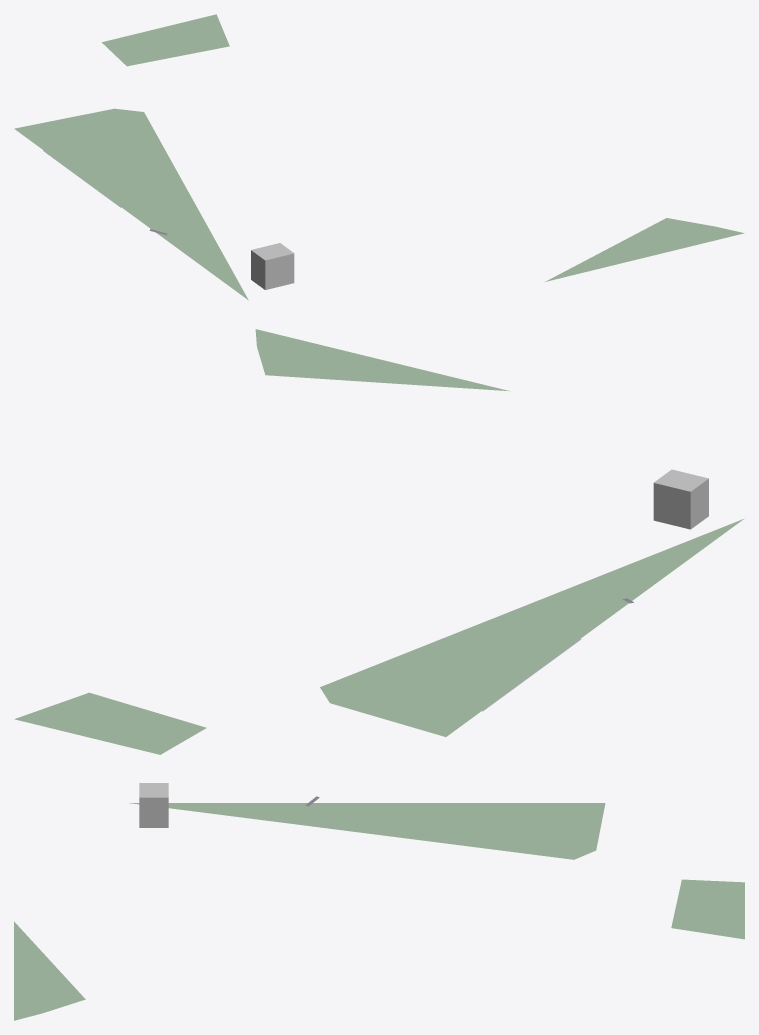
File: 145_108_mid.glb
The picture shows the model from 3 angles, top to bottom: view 1: azimuth 30°, elevation 25°; view 2: azimuth 150°, elevation 25°; view 3: azimuth 270°, elevation 25°; orthographic projection. The views are drawn at different scales.
Size of the model in its own units: 359 by 24.75 by 500.
